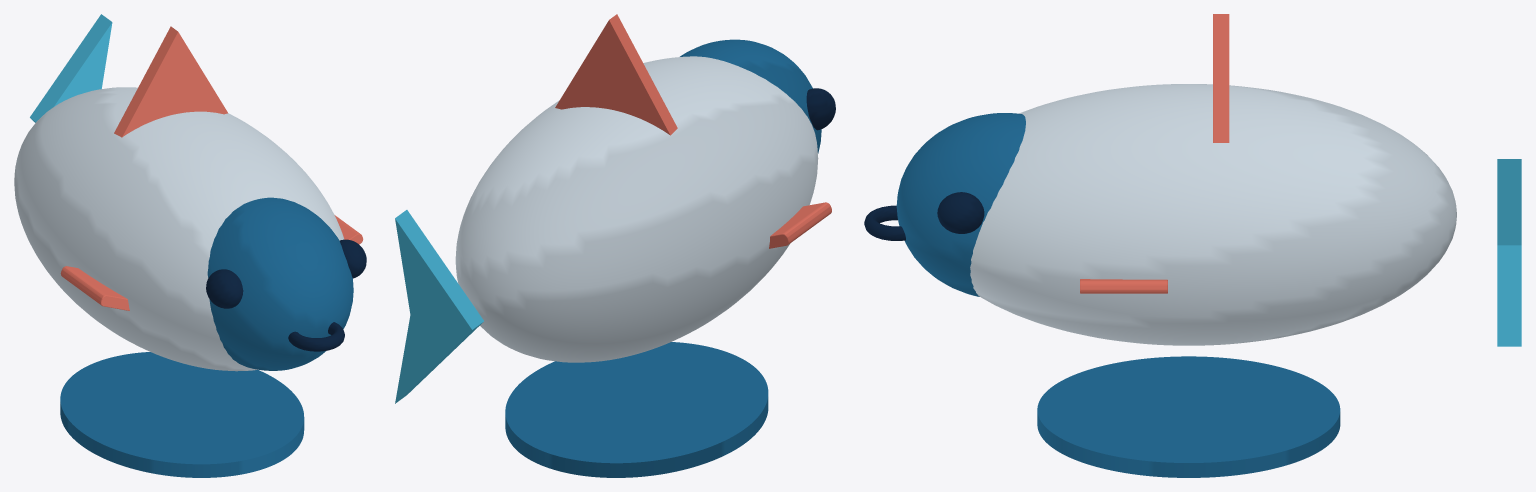
File: 0115_海洋动物图鉴_海星.glb
3 renders of one model, left to right at view 1: azimuth 30°, elevation 25°; view 2: azimuth 150°, elevation 25°; view 3: azimuth 270°, elevation 25°, orthographic. The views are drawn at different scales.
Parts seen in each view (by area): view 1: card_0115; view 2: card_0115; view 3: card_0115.
Part boxes in pixels (bbox=[...]): card_0115: bbox=[14, 14, 366, 477]; card_0115: bbox=[395, 14, 835, 477]; card_0115: bbox=[864, 14, 1521, 477].
Size of the model in its own units: 0.7228 by 1 by 1.44.
